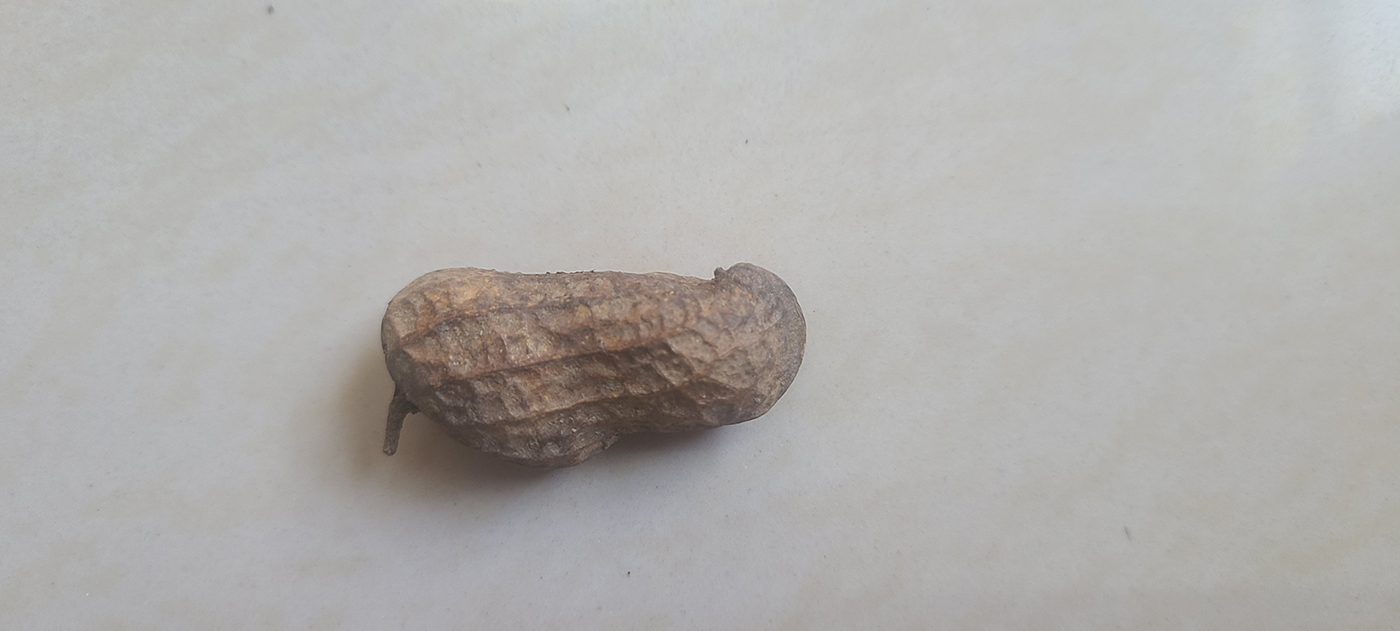l: (377, 264, 812, 467)
